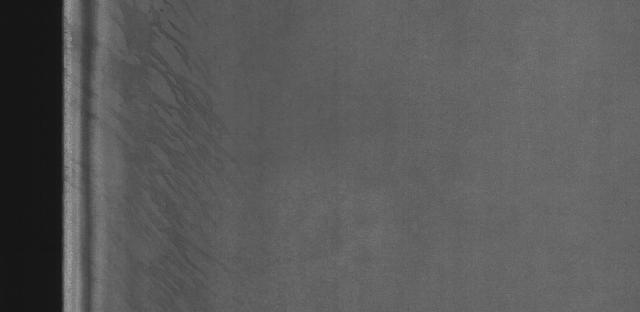water_spot: (109, 2, 242, 310)
